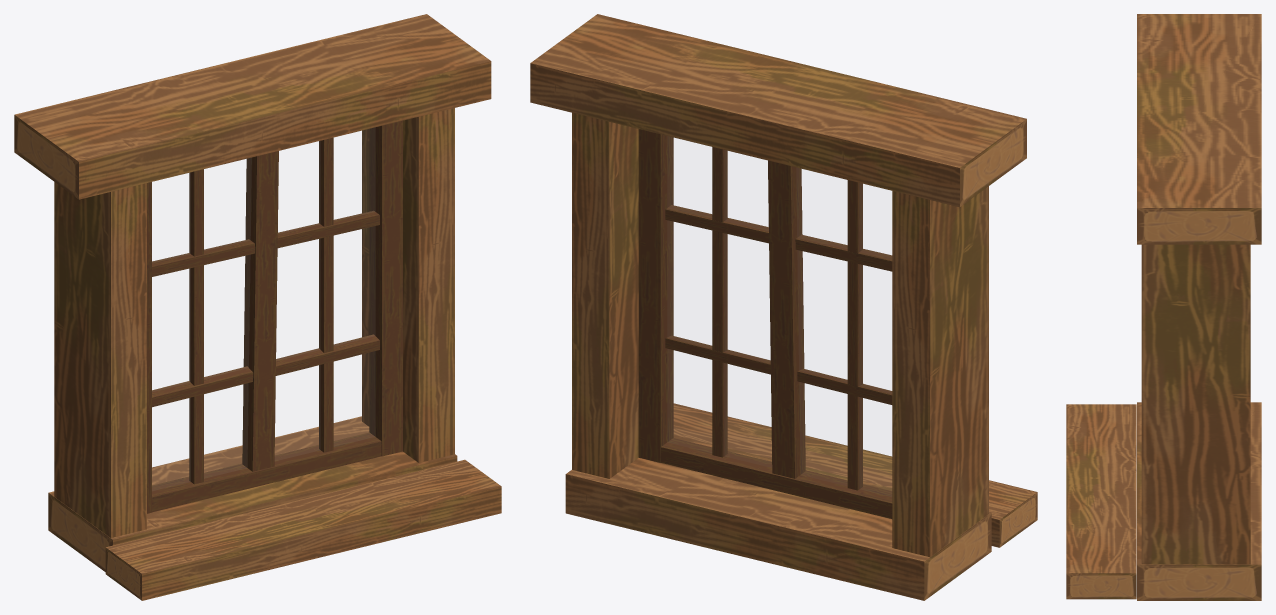
Rendered from Window_Wide_Flat1.gltf.
3 renders of one model, left to right at view 1: azimuth 30°, elevation 25°; view 2: azimuth 150°, elevation 25°; view 3: azimuth 270°, elevation 25°, orthographic. The views are drawn at different scales.
Visible parts, largest first — view 1: Window_Wide_Flat1; view 2: Window_Wide_Flat1; view 3: Window_Wide_Flat1.
Boxes of the visible parts, x1,y1,x2,y2 form: Window_Wide_Flat1: [14, 14, 501, 600]; Window_Wide_Flat1: [530, 14, 1037, 600]; Window_Wide_Flat1: [1066, 14, 1261, 600].
Bounding box in the file's own units: 1.61 × 1.58 × 0.6834.
2 materials, 1 textured.
